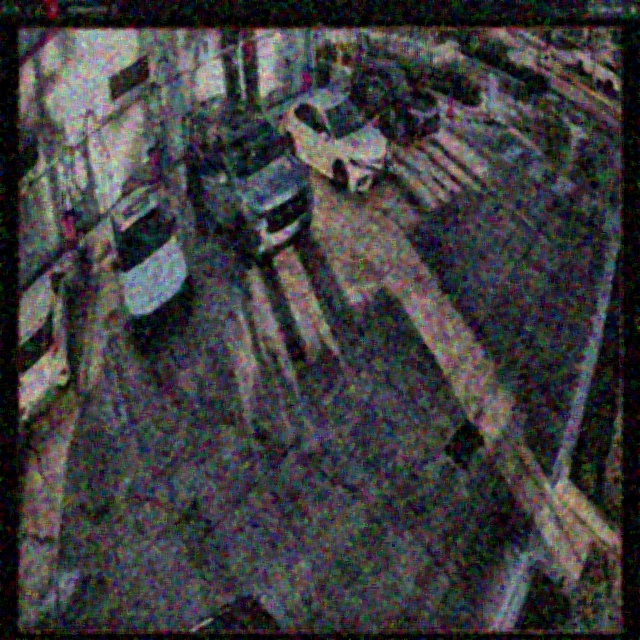Car: (188, 96, 312, 279), (108, 182, 193, 345), (279, 91, 391, 197)
